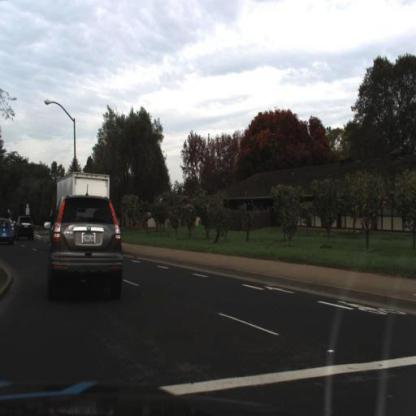car: (46, 194, 126, 302), (15, 208, 36, 242), (2, 215, 16, 247), (1, 219, 12, 244)
truck: (54, 167, 115, 222)
